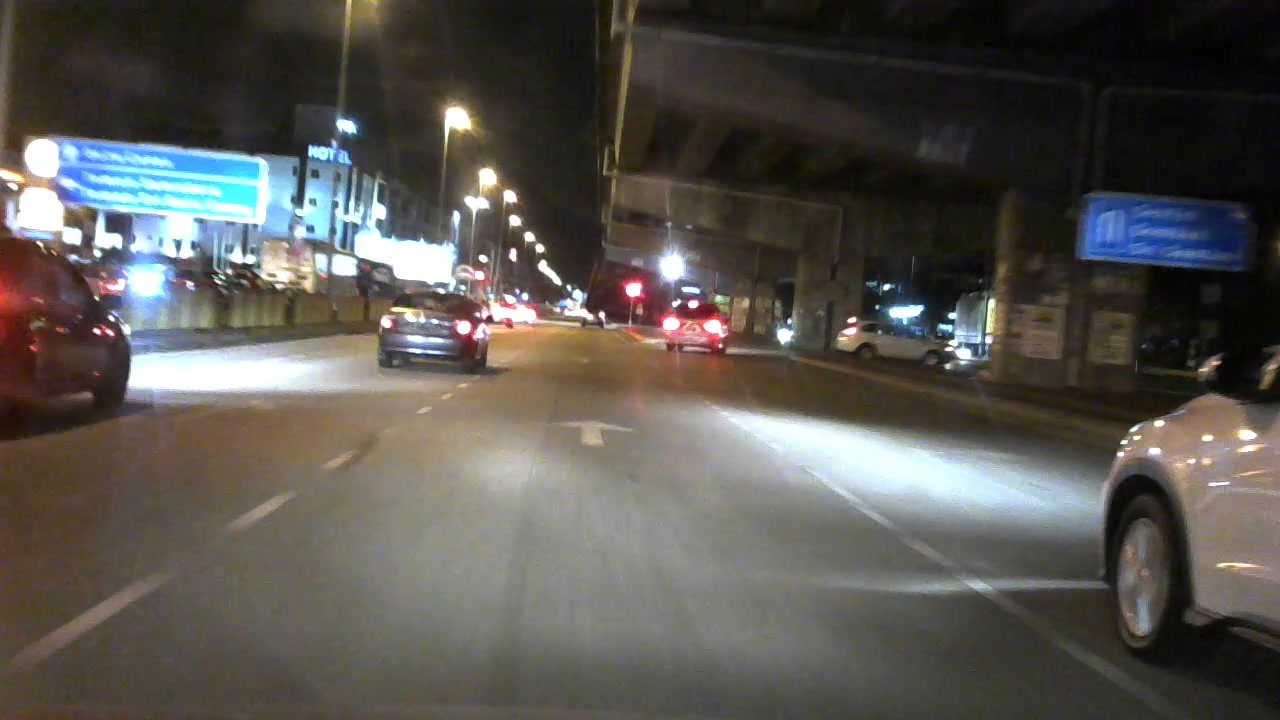Car: (1090, 292, 1280, 662), (1, 235, 153, 436), (377, 285, 499, 378), (834, 316, 957, 365), (651, 293, 739, 354), (575, 309, 611, 332)
